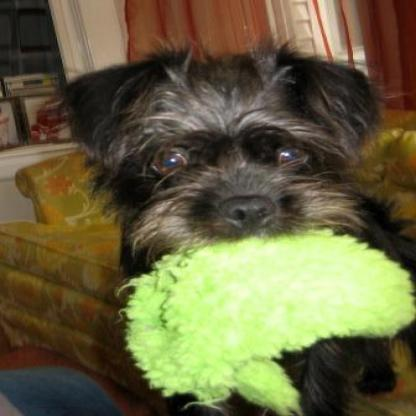affenpinscher: (41, 34, 410, 413)
